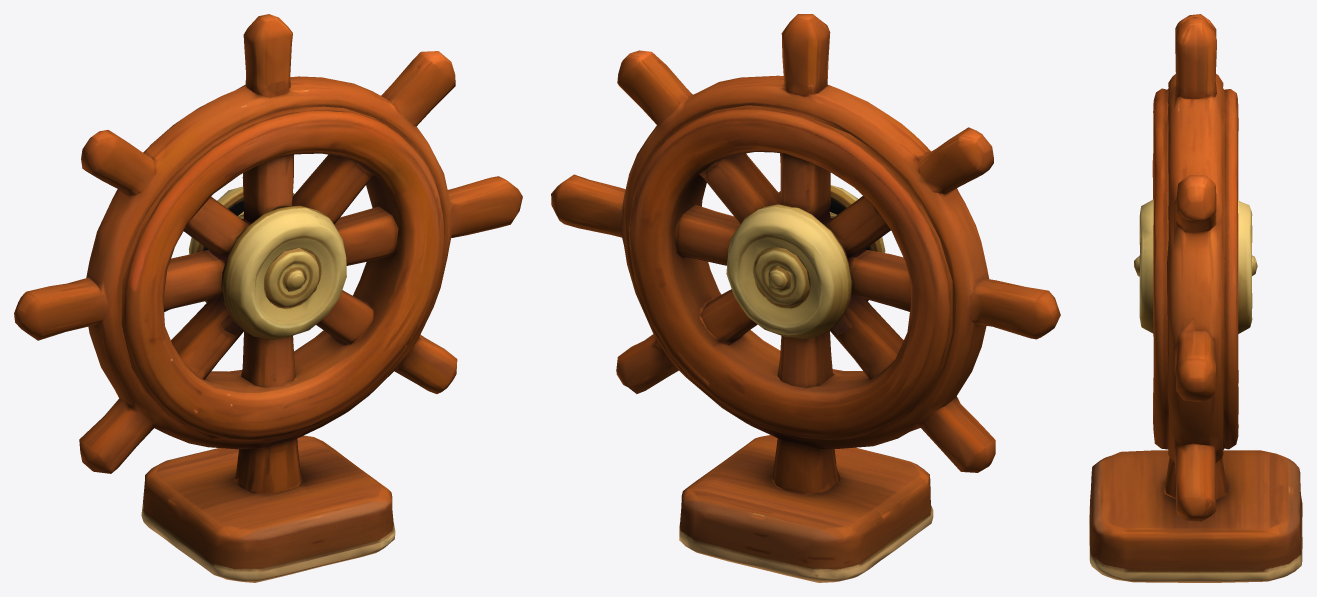
File: ships_wheel.glb
The picture shows the model from 3 angles, left to right: view 1: azimuth 30°, elevation 25°; view 2: azimuth 150°, elevation 25°; view 3: azimuth 270°, elevation 25°; orthographic projection.
Visible parts, largest first — view 1: world; view 2: world; view 3: world.
Part boxes in pixels (<box>): world: <box>14,14,522,582</box>; world: <box>551,14,1060,582</box>; world: <box>1089,14,1302,582</box>.
Size of the model in its own units: 1 by 0.9888 by 0.3649.
1 material, 1 textured.
